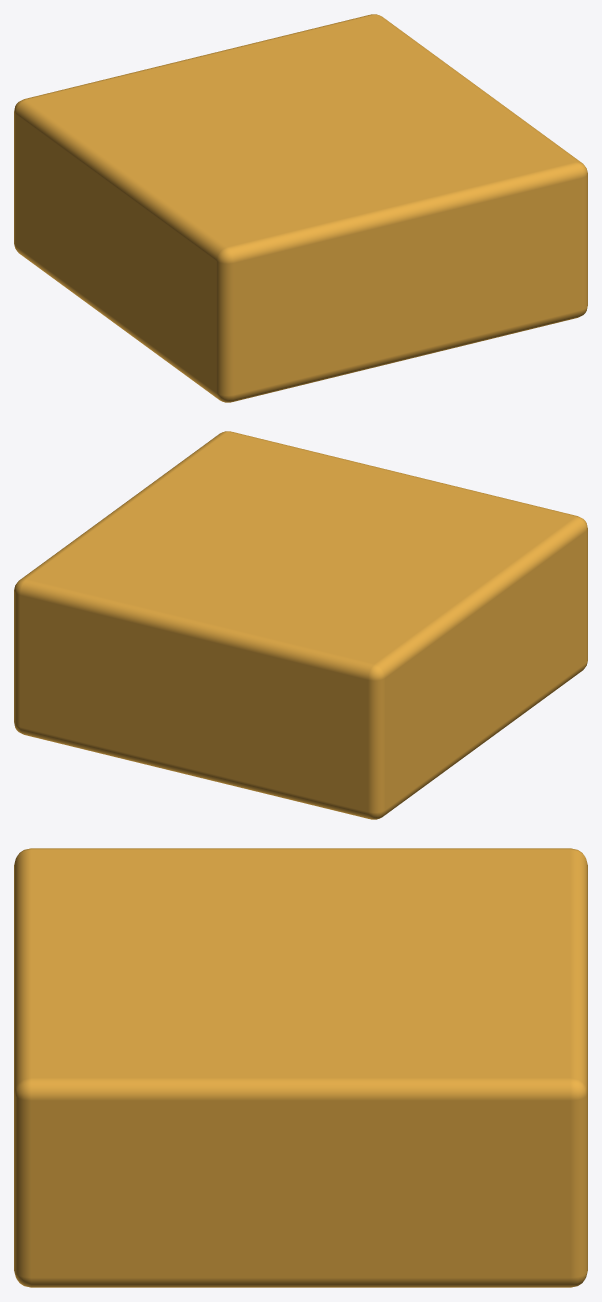
The model's file is paper.glb.
The picture shows the model from 3 angles, top to bottom: view 1: azimuth 30°, elevation 25°; view 2: azimuth 150°, elevation 25°; view 3: azimuth 270°, elevation 25°; orthographic projection. The views are drawn at different scales.
Parts seen in each view (by area): view 1: OutputOccupant; view 2: OutputOccupant; view 3: OutputOccupant.
Boxes of the visible parts, <box> form: OutputOccupant: <box>14,14,587,402</box>; OutputOccupant: <box>14,431,587,819</box>; OutputOccupant: <box>14,848,587,1287</box>.
Bounding box in the file's own units: 0.1 × 0.04 × 0.1.
